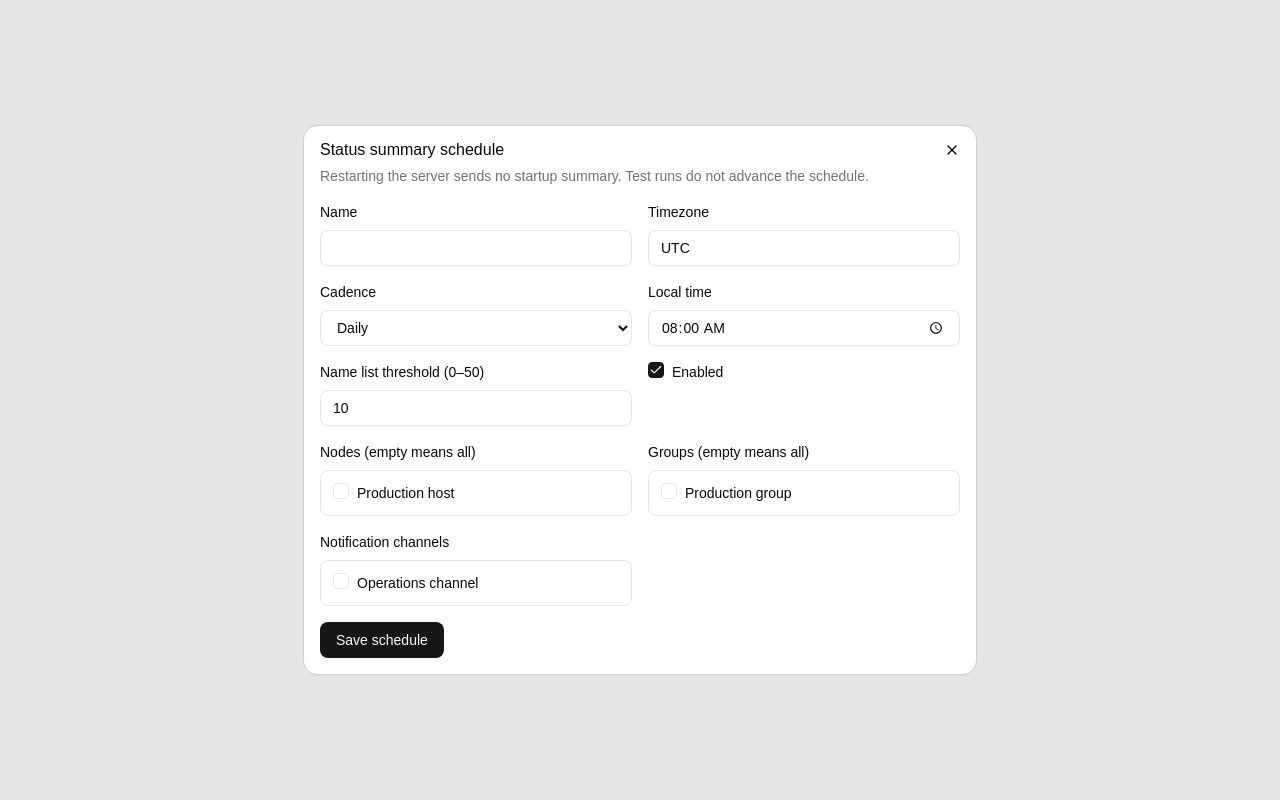
it: independent v23 status summaries › surfaces API failures while preserving the edited draft
Type "Daily" into the field labelled "Name" at (476, 248), box 320,230 -> 632,266
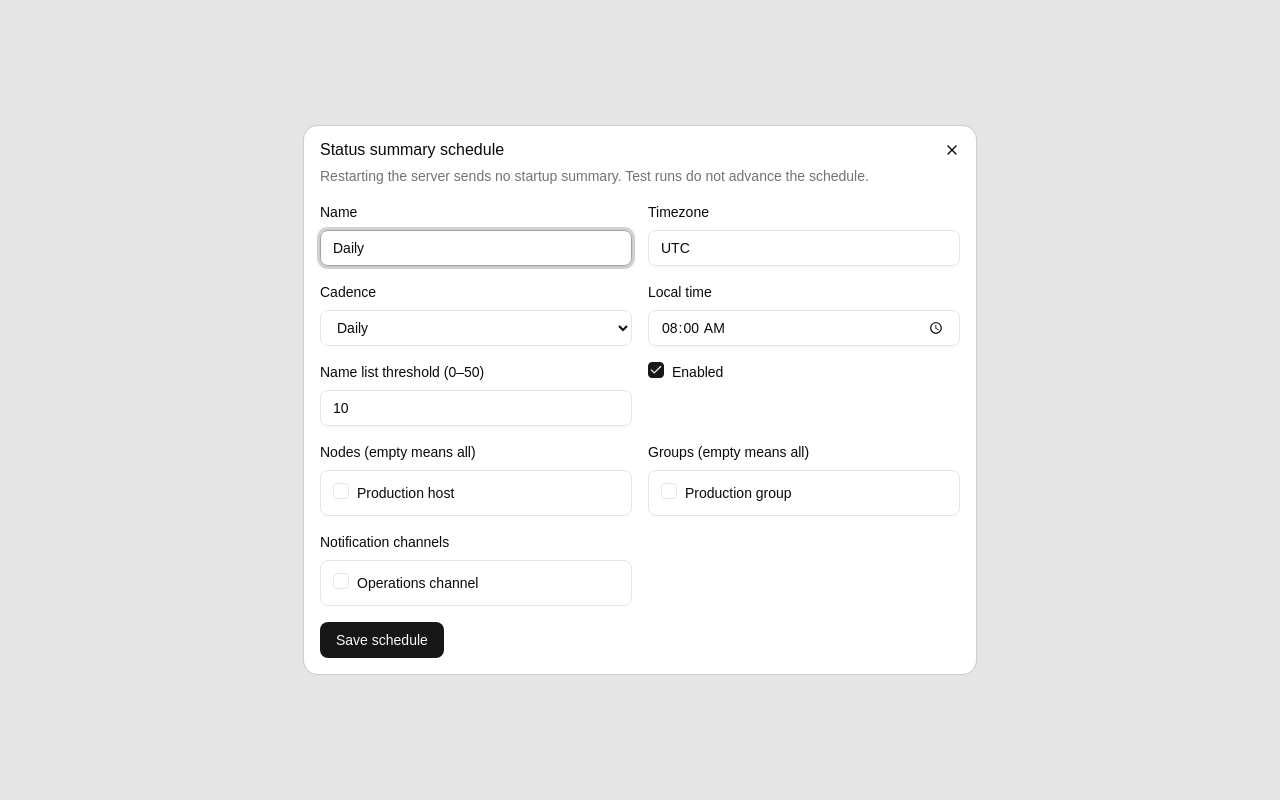
Click the checkbox named "Operations channel" next to "Operations channel" at (341, 581), box 333,573 -> 349,589
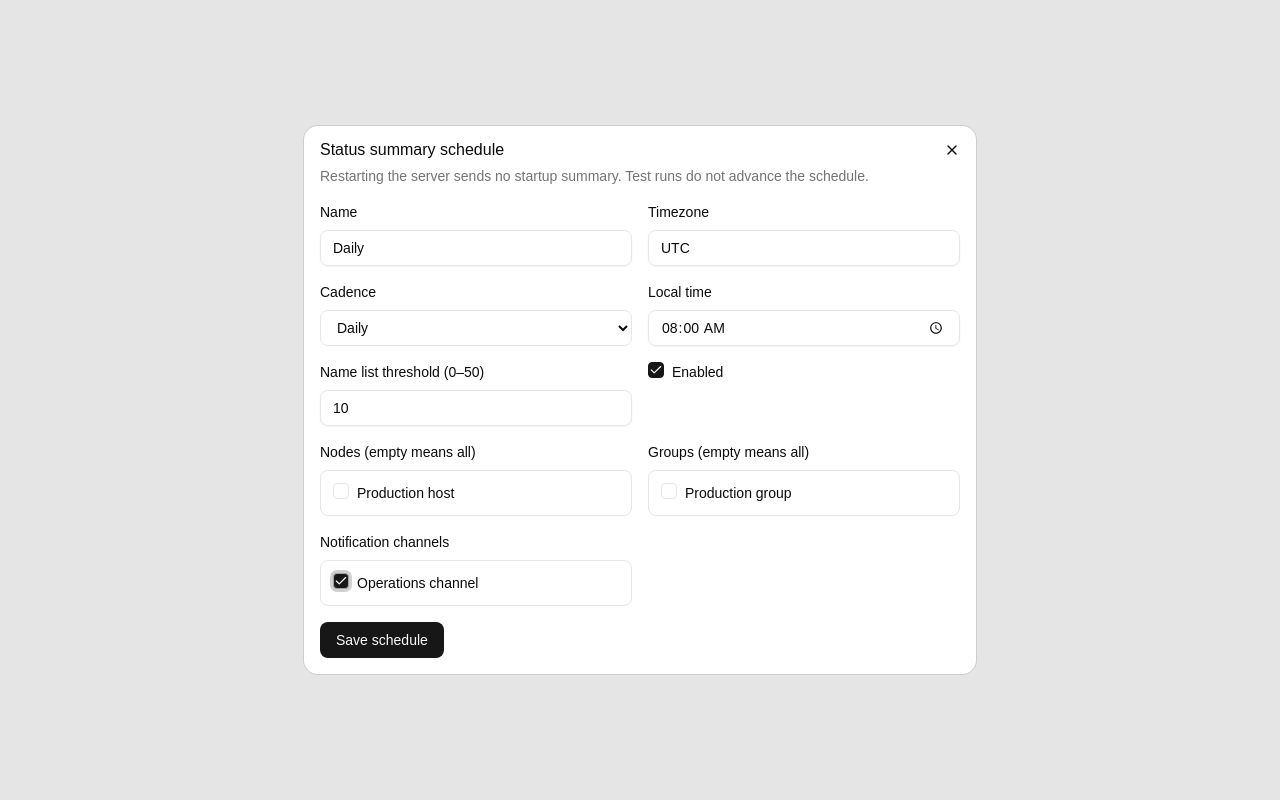
Click the button "Save schedule" at (382, 640), box 320,622 -> 444,658
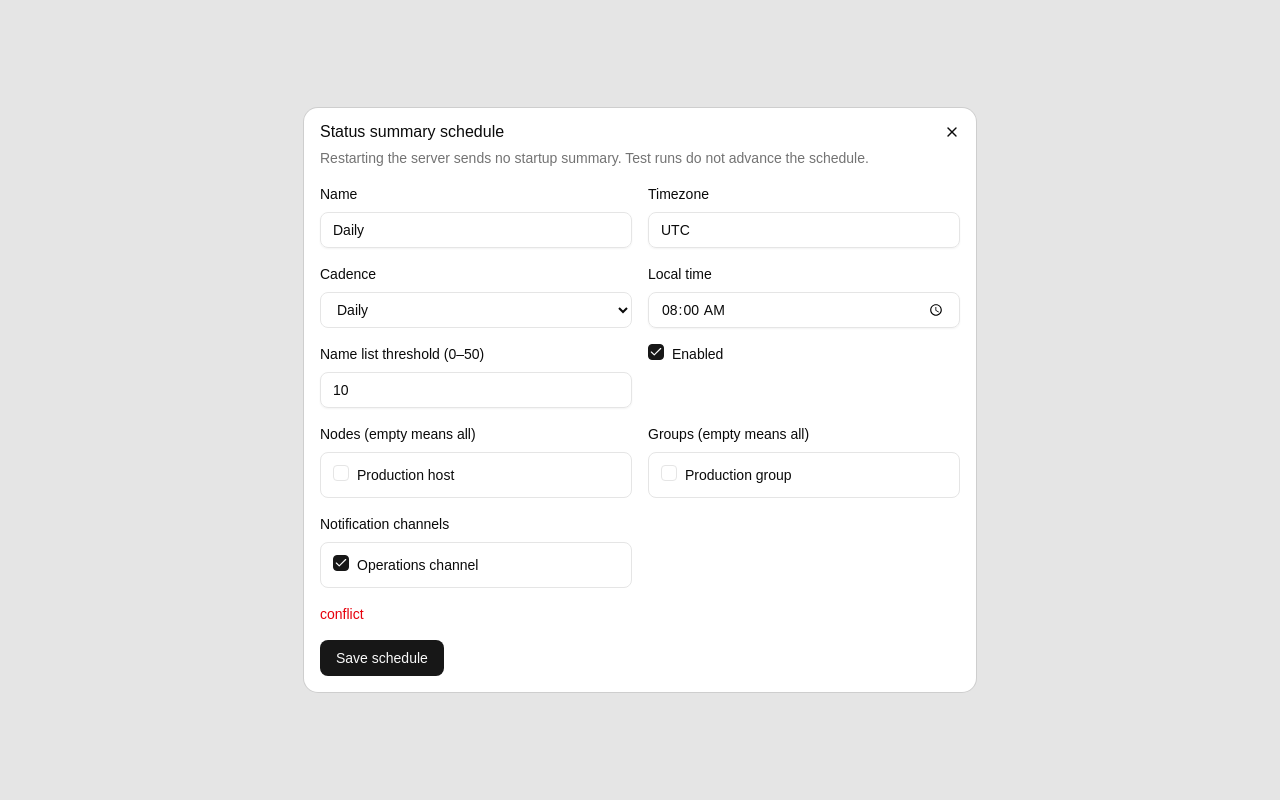
Check: the message reads "conflict", box 320,606 -> 364,622
